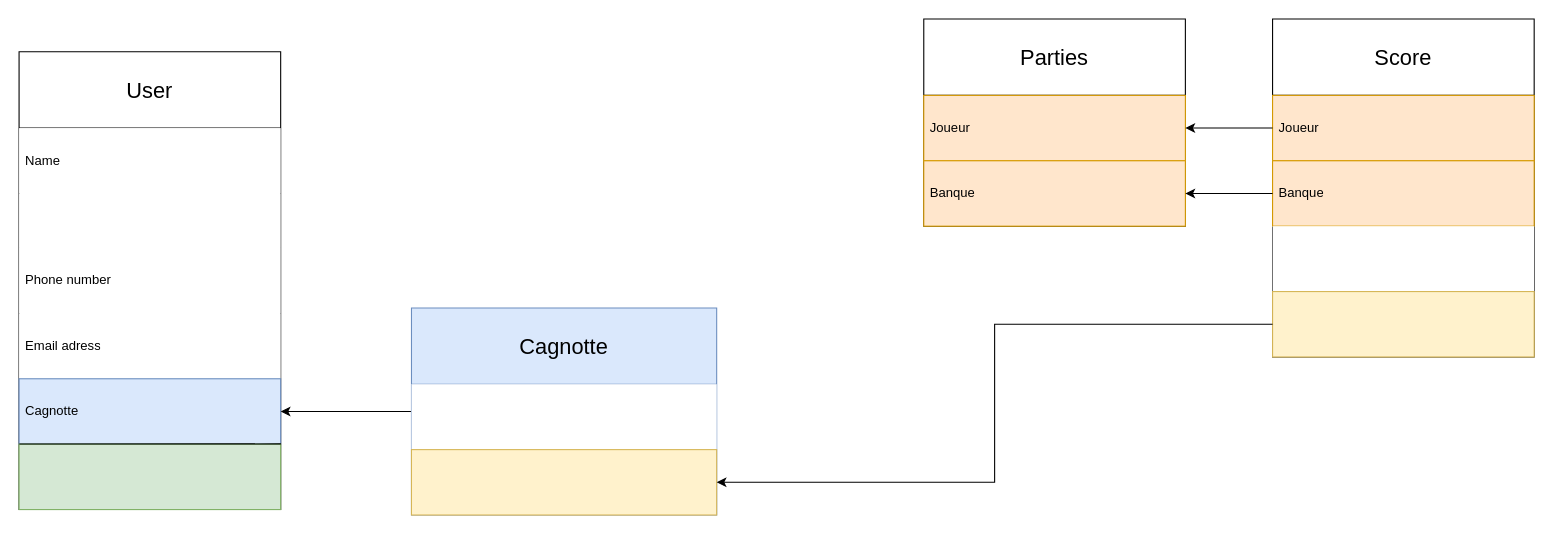
Some shapes in this 1553 by 534 pixel diagram are drawn without their labels. Each missing label, with the centre of its shape:
"Argent/Balance" belongs at (1402,323).
"Balance" belongs at (563,482).
"Quantité de monnaie" belongs at (563,416).
"Resultat" belongs at (1403,258).
"Username" belongs at (149,220).
"Validation du mail" belongs at (149,476).
